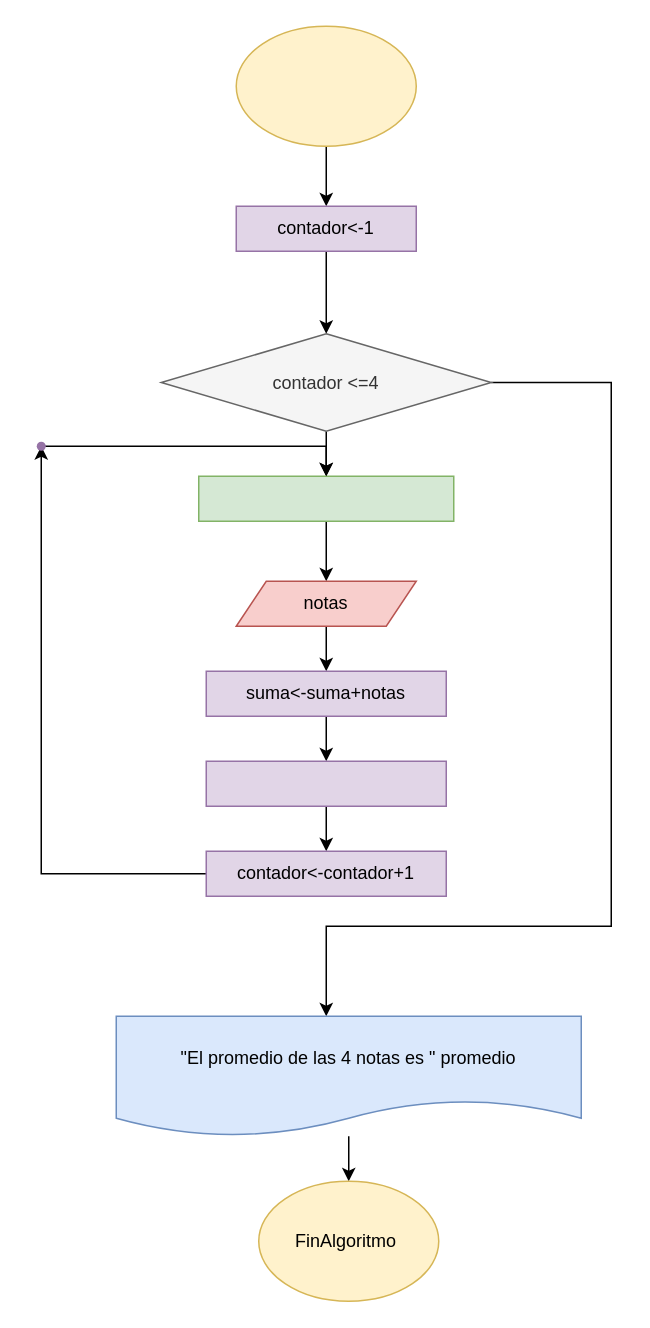
This 650x1328 diagram has some shape labels left out. The centre of each missing label's shape, as x and y in pixels:
"Ingrese nota ": pixel 325 498
Algoritmo eje14: pixel 325 85
promedio<-suma/4: pixel 325 783
